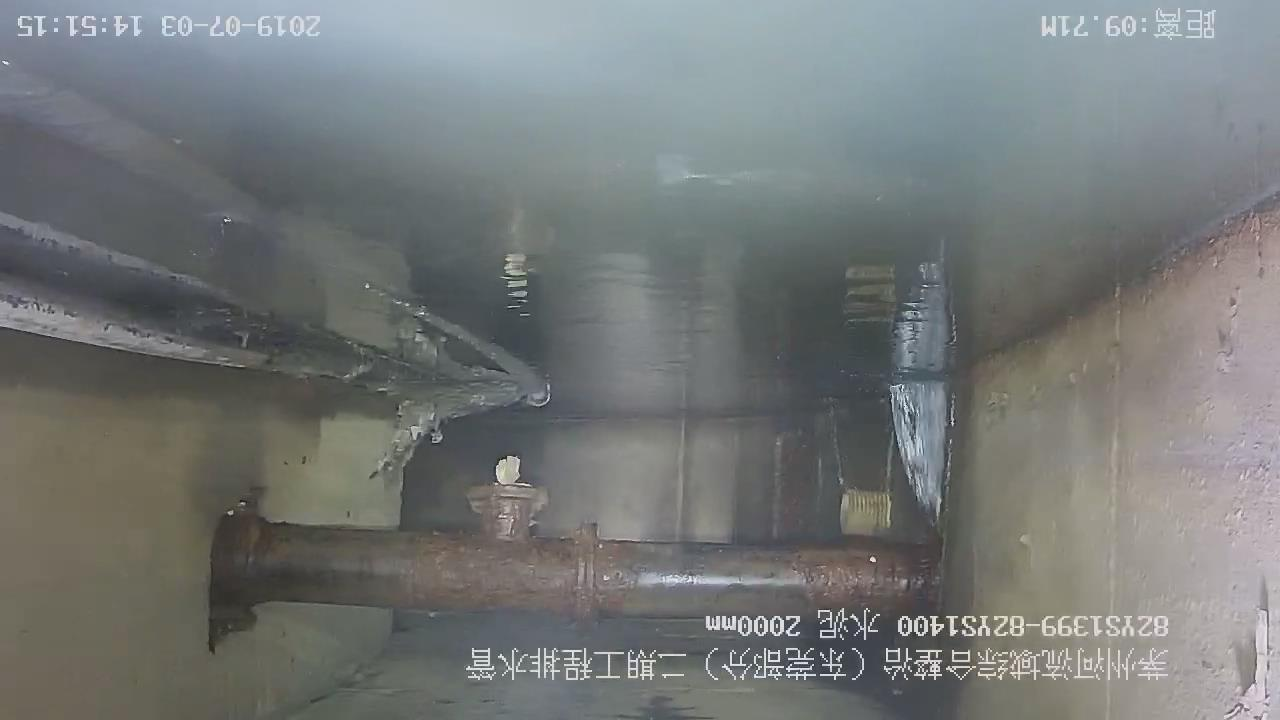SL: (888, 357, 968, 515)
YWCR: (212, 457, 933, 617)
ZGAJ: (841, 489, 893, 536)
